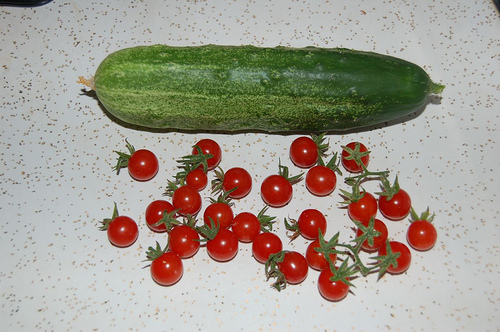cucumber: (80, 45, 444, 134)
